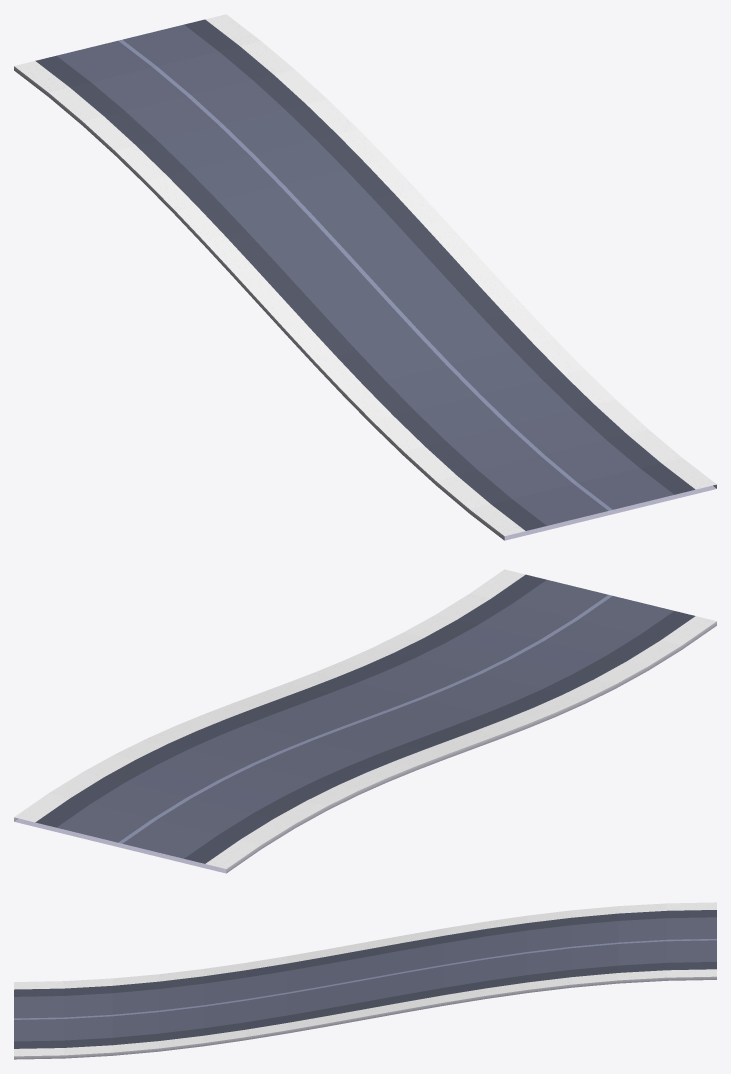
Rendered from road-Straight-Flat-Flat-Up2-Center-Size4.glb.
3 renders of one model, top to bottom at view 1: azimuth 30°, elevation 25°; view 2: azimuth 150°, elevation 25°; view 3: azimuth 270°, elevation 25°, orthographic. The views are drawn at different scales.
Visible parts, largest first — view 1: road-Straight-Flat-Flat-Up2-Center-Size4; view 2: road-Straight-Flat-Flat-Up2-Center-Size4; view 3: road-Straight-Flat-Flat-Up2-Center-Size4.
Part boxes in pixels (x1,y1,x2,y2): road-Straight-Flat-Flat-Up2-Center-Size4: (14,14,716,540); road-Straight-Flat-Flat-Up2-Center-Size4: (14,569,716,873); road-Straight-Flat-Flat-Up2-Center-Size4: (14,902,716,1059).
Size of the model in its own units: 1 by 0.52 by 4.
1 material, 1 textured.
